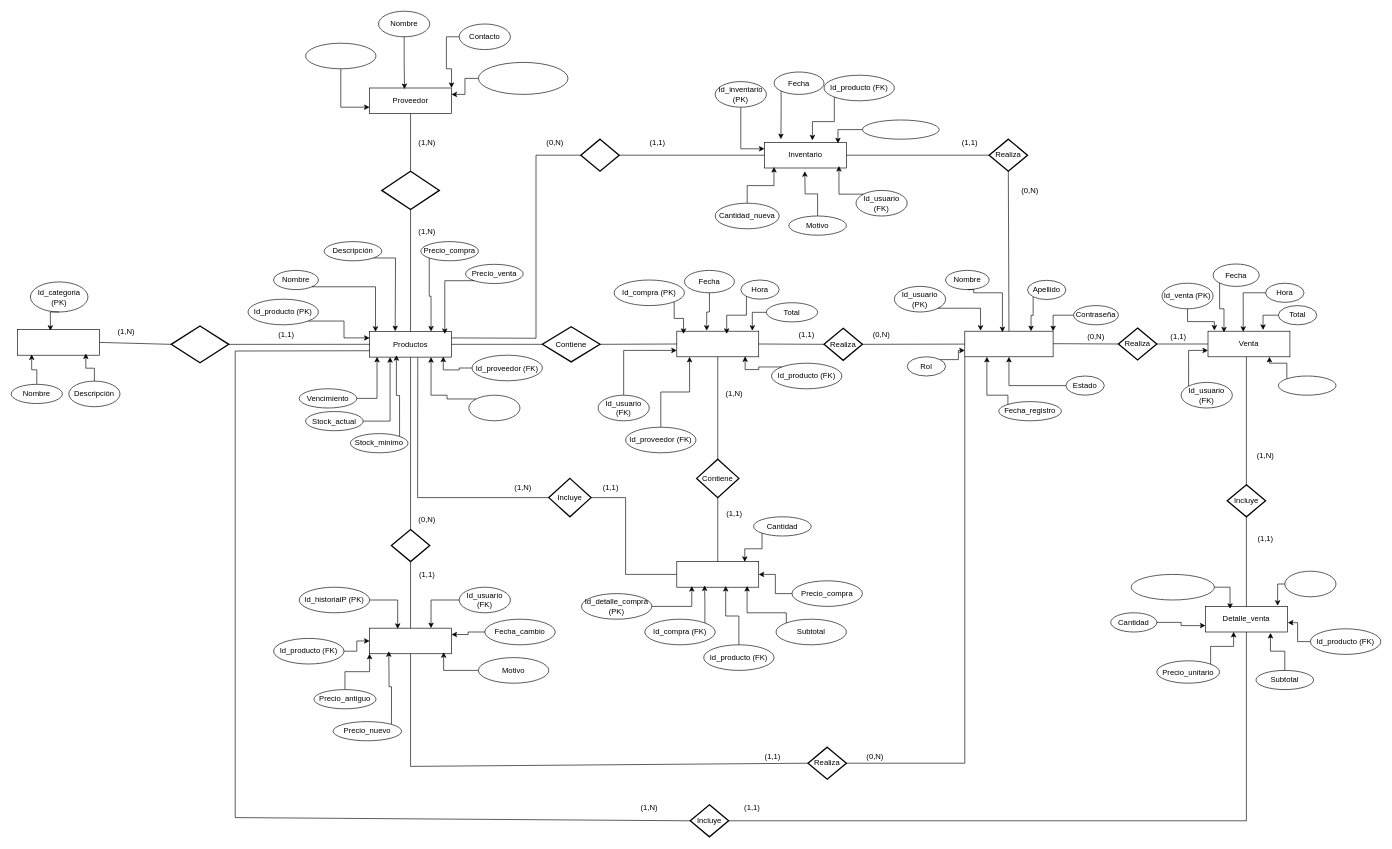
Some shapes in this 1392 by 849 pixel diagram are drawn without their labels. Each missing label, with the centre of its shape:
"Cambia" goes at point (600, 155).
"Cantidad_anterior" goes at point (900, 129).
"Categoría" goes at point (58, 342).
"Compra" goes at point (717, 344).
"Detalle_compra" goes at point (717, 574).
"Historial_precios" goes at point (410, 641).
"Id_categoria (FK)" goes at point (494, 408).
"id_detalle_venta (PK)" goes at point (1172, 587).
"Id_proveedor (PK)" goes at point (340, 56).
"Id_venta (FK)" goes at point (1310, 584).
"Metodo_pago" goes at point (1307, 385).
"Pertenece" goes at point (199, 344).
"Producto_suminitrados" goes at point (523, 78).
"Suministra" goes at point (410, 190).
"Tiene" goes at point (410, 545).
"Usuario" goes at point (1008, 344).
